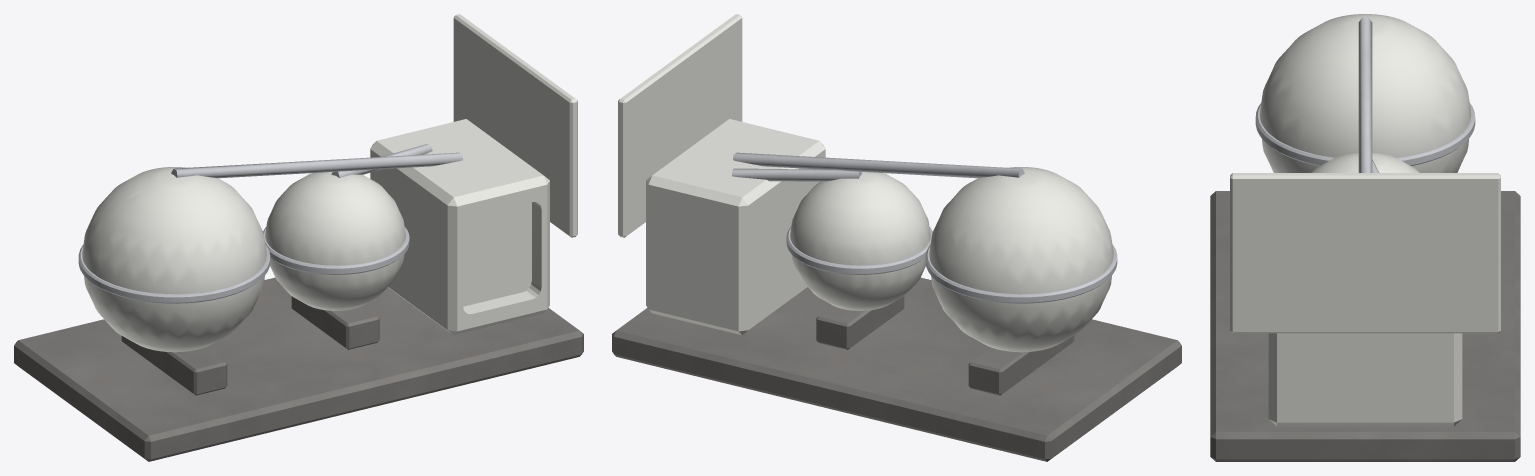
Rendered from ax_power_12_rfc_plant_s.glb.
3 renders of one model, left to right at view 1: azimuth 30°, elevation 25°; view 2: azimuth 150°, elevation 25°; view 3: azimuth 270°, elevation 25°, orthographic. The views are drawn at different scales.
Visible parts, largest first — view 1: skid, electrolyser_fuel_cell_stack, tank_h2, tank_o2, radiator_panel, tank_saddles, plumbing, tank_girth_rings; view 2: skid, electrolyser_fuel_cell_stack, tank_h2, tank_o2, radiator_panel, tank_saddles, plumbing, tank_girth_rings; view 3: radiator_panel, skid, tank_h2, electrolyser_fuel_cell_stack, plumbing, tank_girth_rings, tank_o2.
Part boxes in pixels (x1=…): skid: x1=14, y1=277, x2=583, y2=461; electrolyser_fuel_cell_stack: x1=370, y1=119, x2=549, y2=335; tank_h2: x1=82, y1=167, x2=266, y2=352; tank_o2: x1=265, y1=172, x2=405, y2=310; radiator_panel: x1=453, y1=14, x2=577, y2=237; tank_saddles: x1=121, y1=296, x2=379, y2=395; plumbing: x1=171, y1=144, x2=462, y2=178; tank_girth_rings: x1=78, y1=227, x2=409, y2=303; skid: x1=612, y1=277, x2=1181, y2=461; electrolyser_fuel_cell_stack: x1=646, y1=119, x2=825, y2=335; tank_h2: x1=929, y1=167, x2=1113, y2=352; tank_o2: x1=790, y1=172, x2=930, y2=310; radiator_panel: x1=618, y1=14, x2=742, y2=237; tank_saddles: x1=816, y1=296, x2=1074, y2=395; plumbing: x1=732, y1=152, x2=1024, y2=181; tank_girth_rings: x1=786, y1=227, x2=1117, y2=303; radiator_panel: x1=1230, y1=173, x2=1500, y2=333; skid: x1=1210, y1=191, x2=1520, y2=461; tank_h2: x1=1259, y1=14, x2=1471, y2=172; electrolyser_fuel_cell_stack: x1=1268, y1=333, x2=1462, y2=426; plumbing: x1=1358, y1=17, x2=1378, y2=172; tank_girth_rings: x1=1255, y1=103, x2=1475, y2=165; tank_o2: x1=1311, y1=152, x2=1419, y2=172.
Size of the model in its own units: 2.11 by 1.15 by 1.12.
3 materials, 2 textured.
